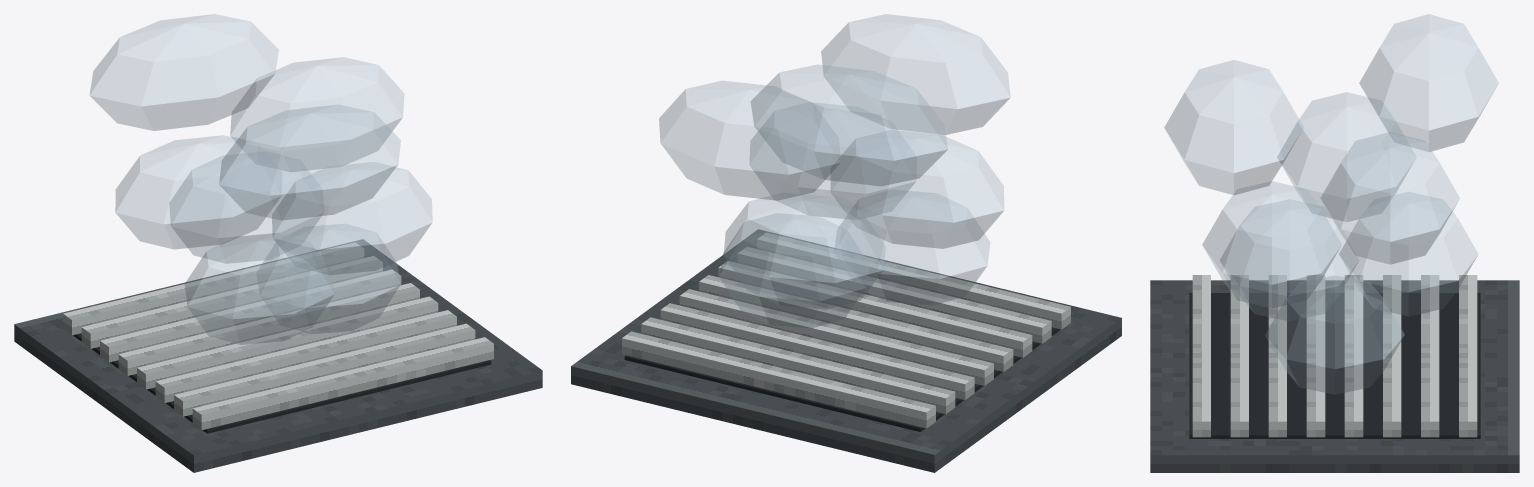
File: f_vent_cold_air2_blast.glb
3 views of the same model, side by side, from view 1: azimuth 30°, elevation 25°; view 2: azimuth 150°, elevation 25°; view 3: azimuth 270°, elevation 25° (orthographic). The views are drawn at different scales.
Parts seen in each view (by area): view 1: block_soft-edged-vent-plume (×8), block_metal-grate-slat (×8), block_floor-vent-frame, block_dark-duct-opening; view 2: block_soft-edged-vent-plume (×8), block_metal-grate-slat (×8), block_floor-vent-frame, block_dark-duct-opening; view 3: block_soft-edged-vent-plume (×8), block_floor-vent-frame, block_metal-grate-slat (×8), block_dark-duct-opening.
Boxes of the visible parts, left/top/right/bottom form: block_soft-edged-vent-plume (×8): left=90, top=14, right=432, bottom=344; block_metal-grate-slat (×8): left=63, top=242, right=493, bottom=430; block_floor-vent-frame: left=14, top=239, right=542, bottom=472; block_dark-duct-opening: left=73, top=333, right=491, bottom=433; block_soft-edged-vent-plume (×8): left=659, top=14, right=1010, bottom=327; block_metal-grate-slat (×8): left=622, top=233, right=1070, bottom=428; block_floor-vent-frame: left=571, top=229, right=1121, bottom=472; block_dark-duct-opening: left=624, top=327, right=1060, bottom=431; block_soft-edged-vent-plume (×8): left=1164, top=14, right=1498, bottom=394; block_floor-vent-frame: left=1150, top=280, right=1519, bottom=472; block_metal-grate-slat (×8): left=1192, top=275, right=1477, bottom=437; block_dark-duct-opening: left=1189, top=293, right=1480, bottom=438.
Bounding box in the file's own units: 0.74 × 0.647 × 0.66.
Materials: 2 (2 with a texture image).
